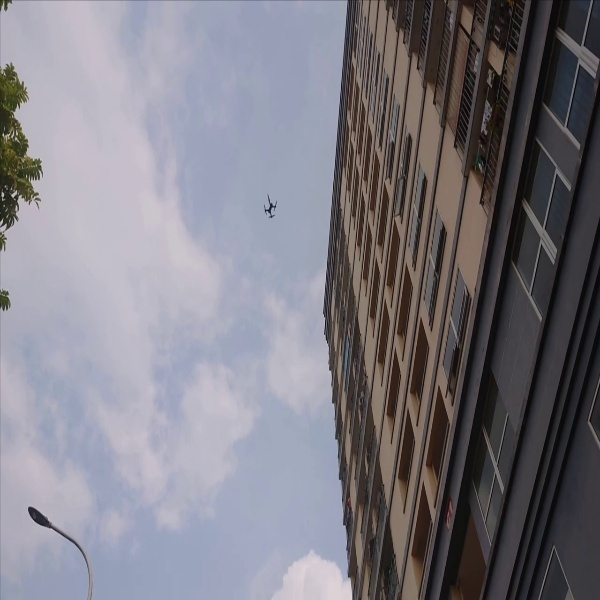drone: (259, 187, 283, 228)
